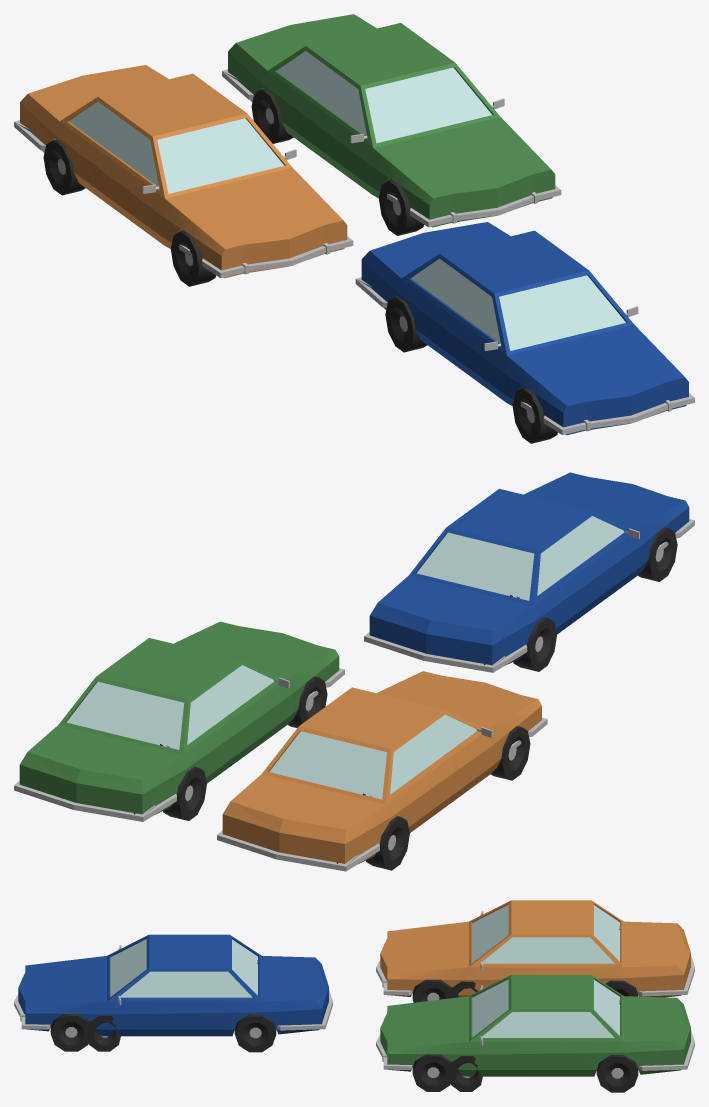
File: Cars.fbx
3 views of the same model, one above another, from view 1: azimuth 30°, elevation 25°; view 2: azimuth 150°, elevation 25°; view 3: azimuth 270°, elevation 25° (orthographic). The views are drawn at different scales.
Visible parts, largest first — view 1: Car_New, Car_New2.001, Car_New2; view 2: Car_New2.001, Car_New, Car_New2; view 3: Car_New2.001, Car_New2, Car_New, Car_Broken2.003, Car_Broken2.002.
Boxes of the visible parts, x1,y1,x2,y2 form: Car_New: (14,65,353,286); Car_New2.001: (355,222,694,443); Car_New2: (222,14,561,235); Car_New2.001: (364,472,694,672); Car_New: (217,671,547,871); Car_New2: (14,621,344,821); Car_New2.001: (14,934,332,1052); Car_New2: (376,975,694,1092); Car_New: (376,900,694,1002); Car_Broken2.003: (86,960,258,1051); Car_Broken2.002: (450,1000,620,1091).
Size of the model in its own units: 0.8952 by 0.2441 by 1.99.
